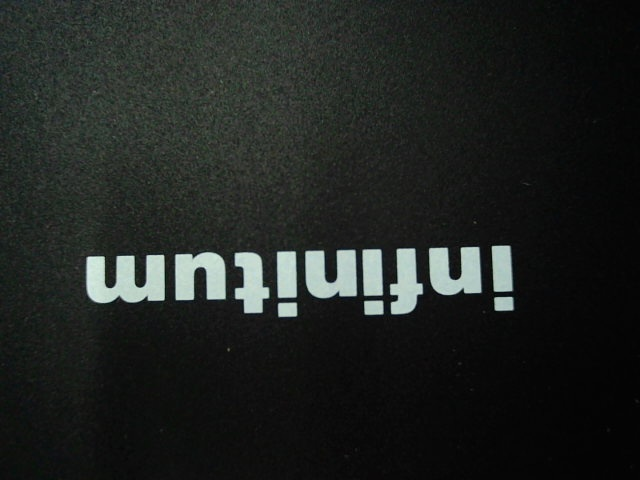BK_infinitum: (71, 229, 534, 332)
